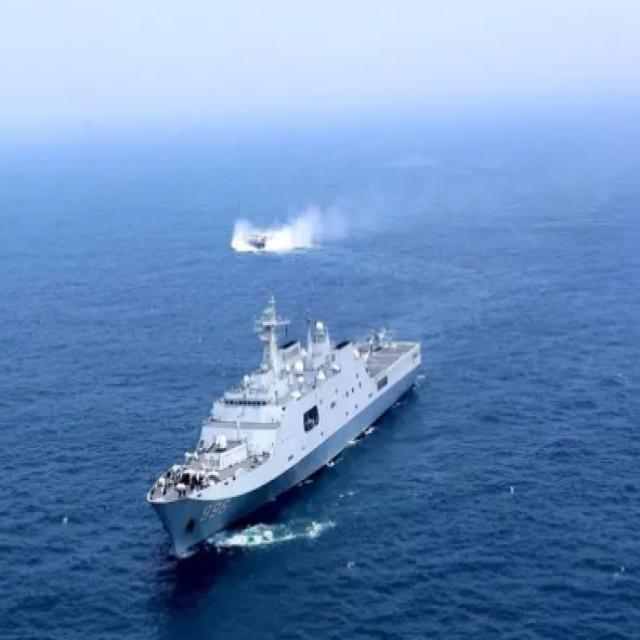navalvessels: (144, 262, 422, 562)
